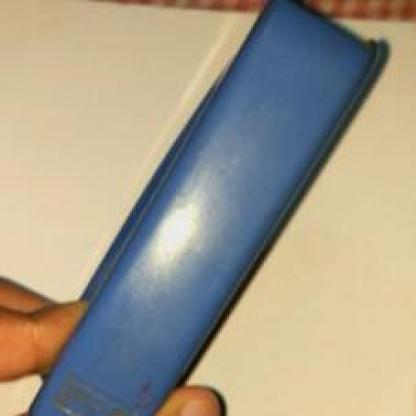stapler: (51, 0, 387, 414)
